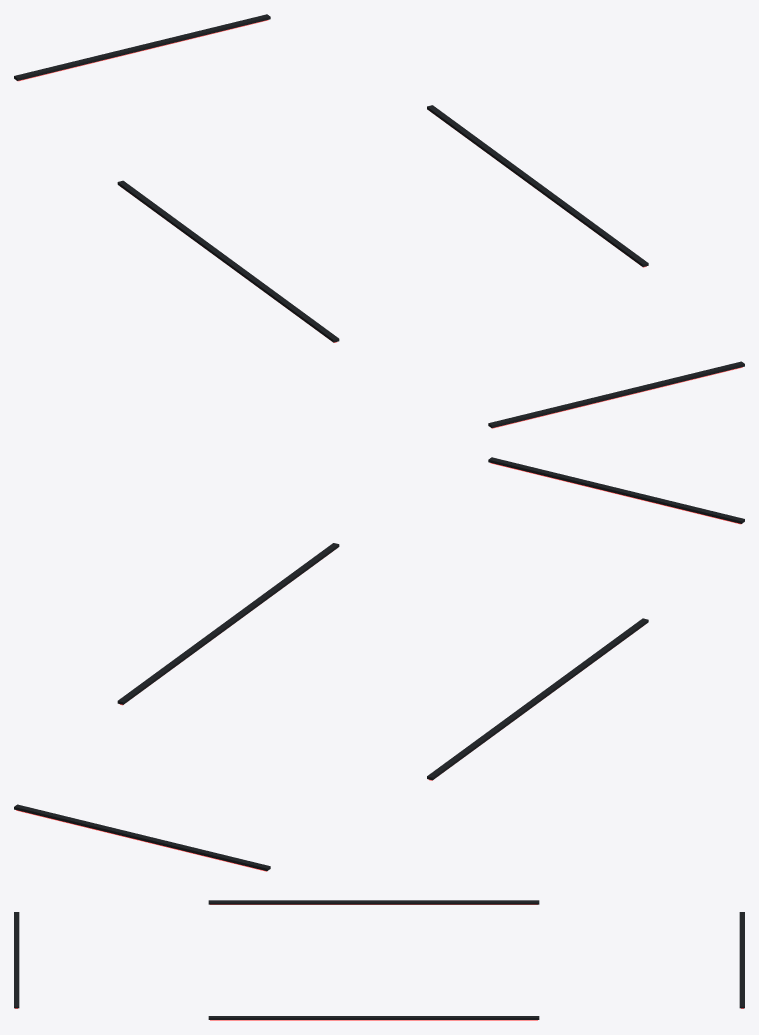
The model's file is vortex_r.glb.
3 renders of one model, top to bottom at view 1: azimuth 30°, elevation 25°; view 2: azimuth 150°, elevation 25°; view 3: azimuth 270°, elevation 25°, orthographic. The views are drawn at different scales.
Visible parts, largest first — view 1: model; view 2: model; view 3: model.
Boxes of the visible parts, <box> form: model: <box>14,14,744,428</box>; model: <box>14,457,744,871</box>; model: <box>14,900,744,1020</box>.
Size of the model in its own units: 1.51 by 0.0179 by 3.96.
Materials: 2 (1 with a texture image).
